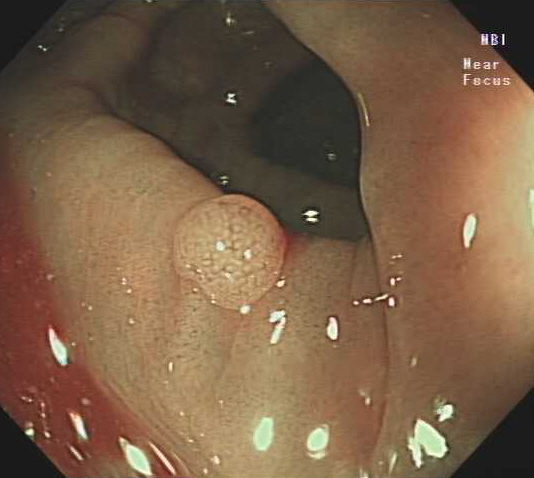others: (168, 190, 288, 313)
